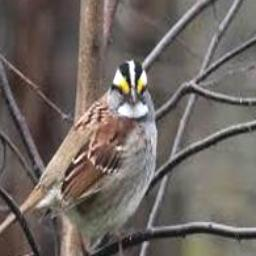Sparrow: (0, 60, 158, 256)
